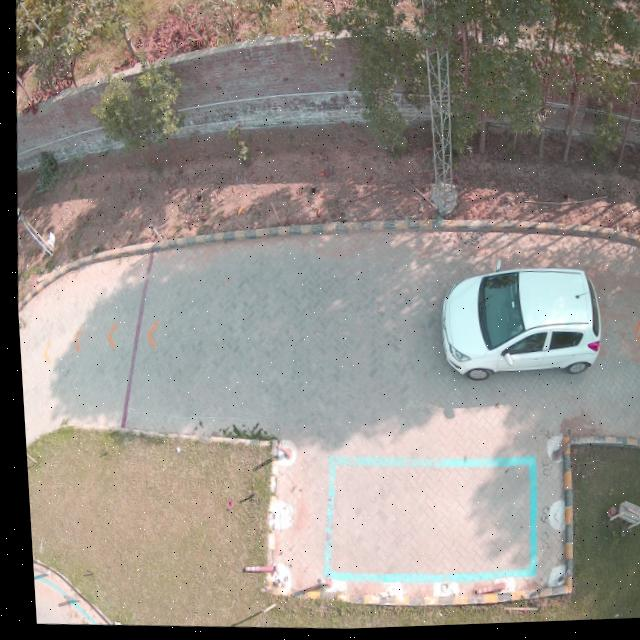car: (436, 272, 598, 384)
